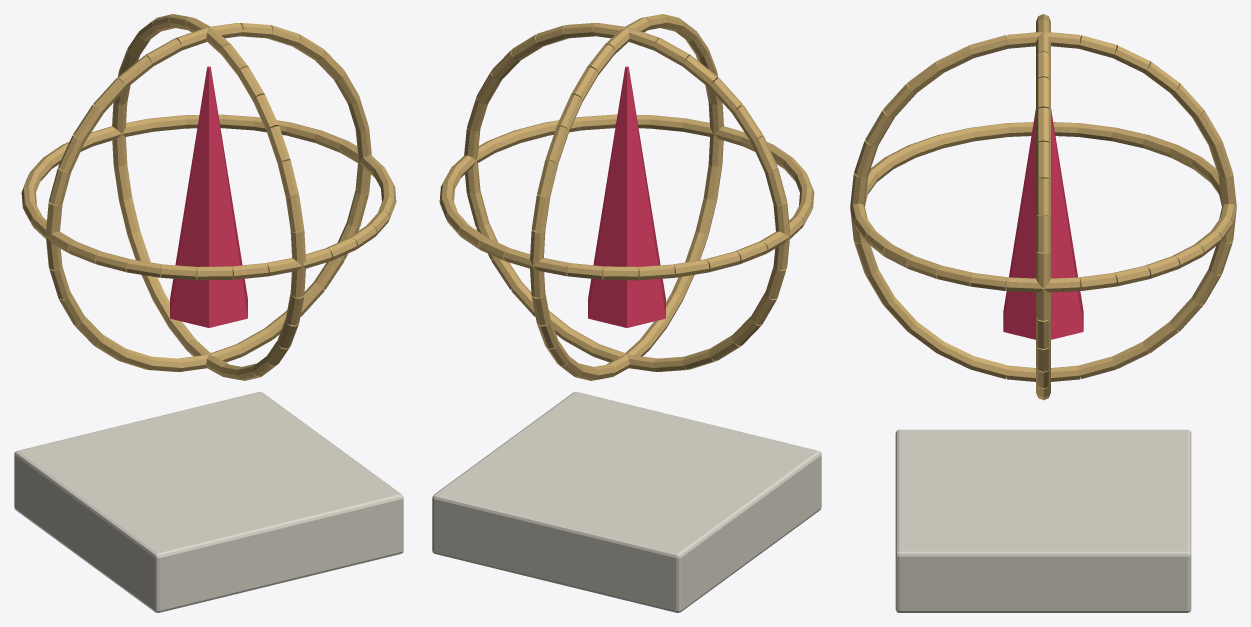
File: a6_prop.glb
3 renders of one model, left to right at view 1: azimuth 30°, elevation 25°; view 2: azimuth 150°, elevation 25°; view 3: azimuth 270°, elevation 25°, orthographic. The views are drawn at different scales.
Parts seen in each view (by area): view 1: Body.073; view 2: Body.073; view 3: Body.073.
Part boxes in pixels (x1=…): Body.073: x1=14, y1=14, x2=403, y2=612; Body.073: x1=432, y1=14, x2=821, y2=612; Body.073: x1=850, y1=14, x2=1236, y2=612.
Size of the model in its own units: 1.83 by 2.71 by 1.83.
